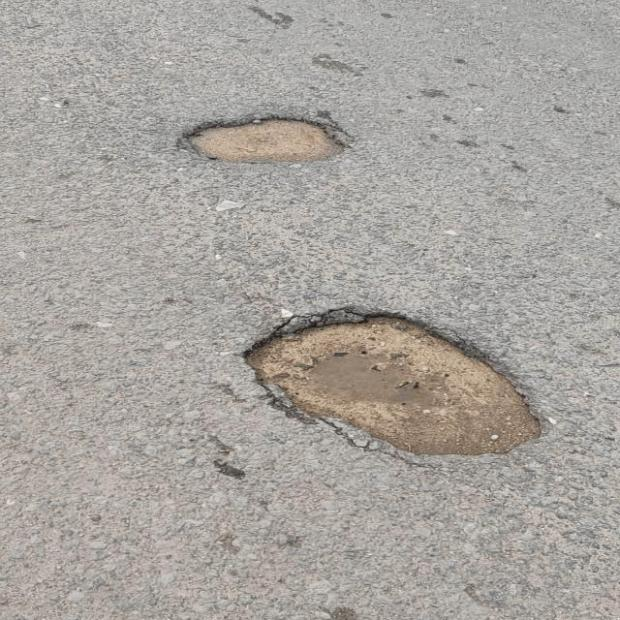lubang: (244, 310, 541, 454), (182, 116, 349, 163)
